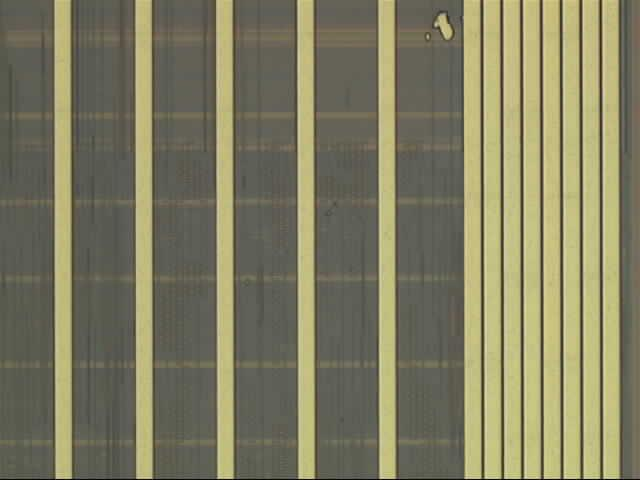BLOCK ETCH: (420, 7, 464, 51)
